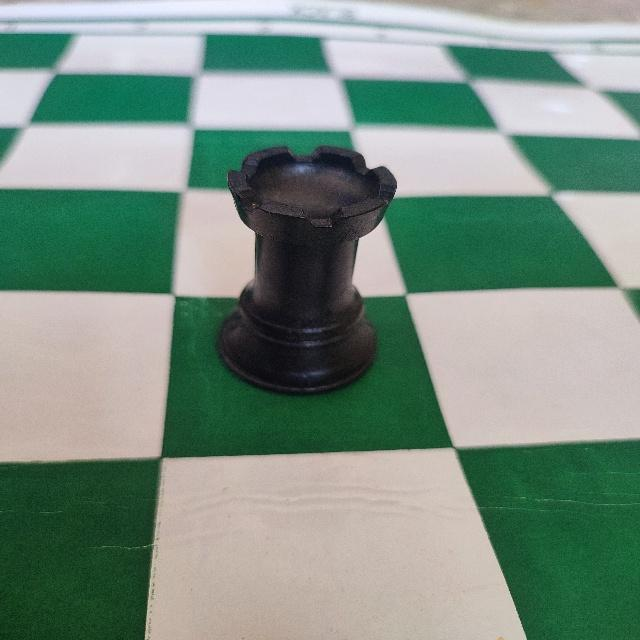Rook: (213, 143, 400, 398)
